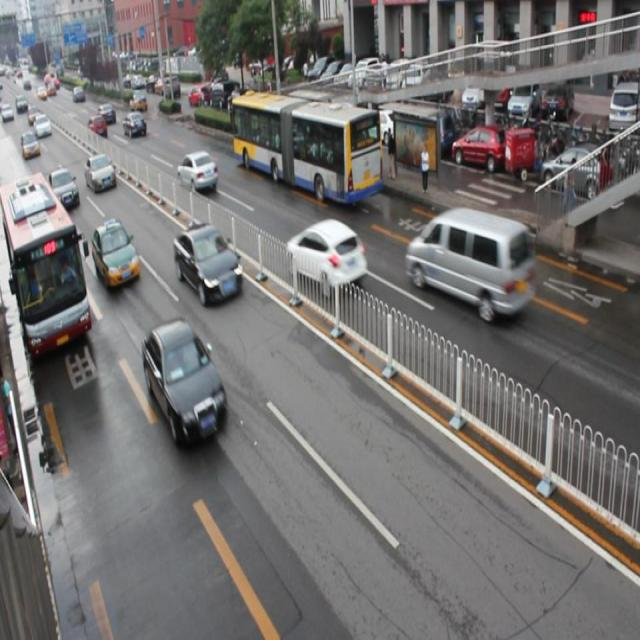car: (142, 319, 228, 444), (172, 222, 244, 304), (287, 217, 366, 289), (92, 217, 140, 289), (177, 152, 218, 192), (48, 166, 79, 209), (86, 154, 116, 191)
truck: (402, 210, 536, 320)
van: (231, 88, 382, 205), (1, 175, 90, 355)
